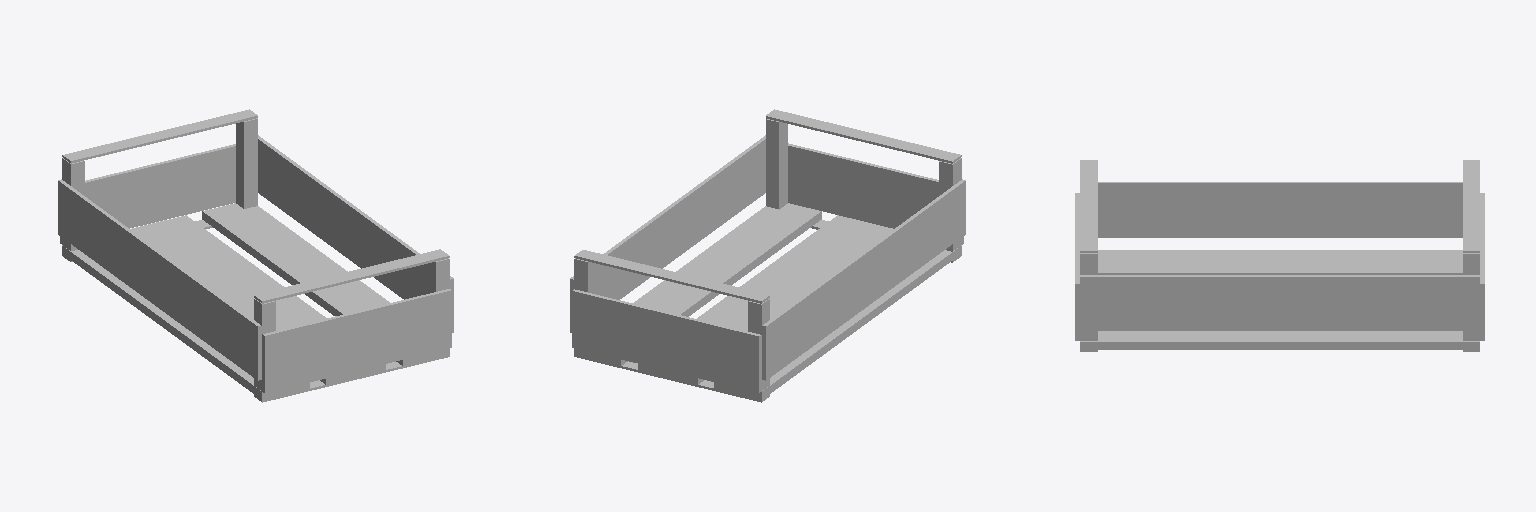
The model's file is vendor_crate.obj.
The picture shows the model from 3 angles: view 1: azimuth 30°, elevation 25°; view 2: azimuth 150°, elevation 25°; view 3: azimuth 270°, elevation 25°; orthographic projection.
Visible parts, largest first — view 1: base_caixote_Cube.002; view 2: base_caixote_Cube.002; view 3: base_caixote_Cube.002.
Boxes of the visible parts, x1,y1,x2,y2 form: base_caixote_Cube.002: [58, 109, 453, 402]; base_caixote_Cube.002: [570, 109, 965, 402]; base_caixote_Cube.002: [1075, 160, 1484, 351].
Size of the model in its own units: 0.3296 by 0.1623 by 0.5946.